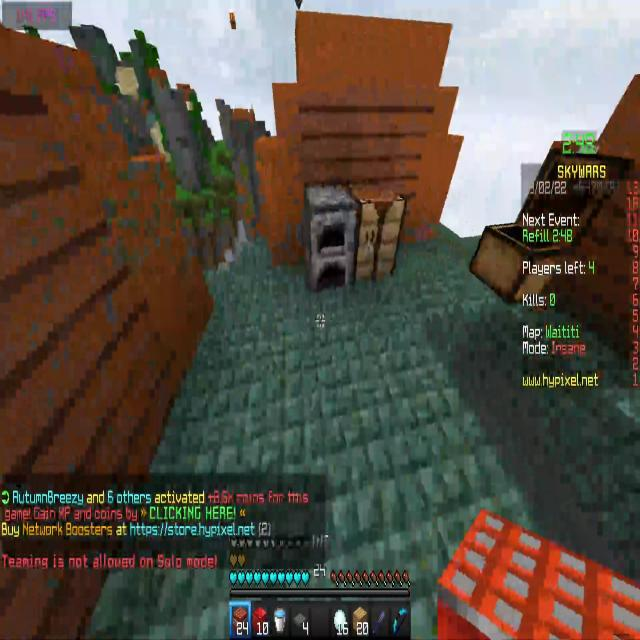Chest: (464, 101, 630, 348)
